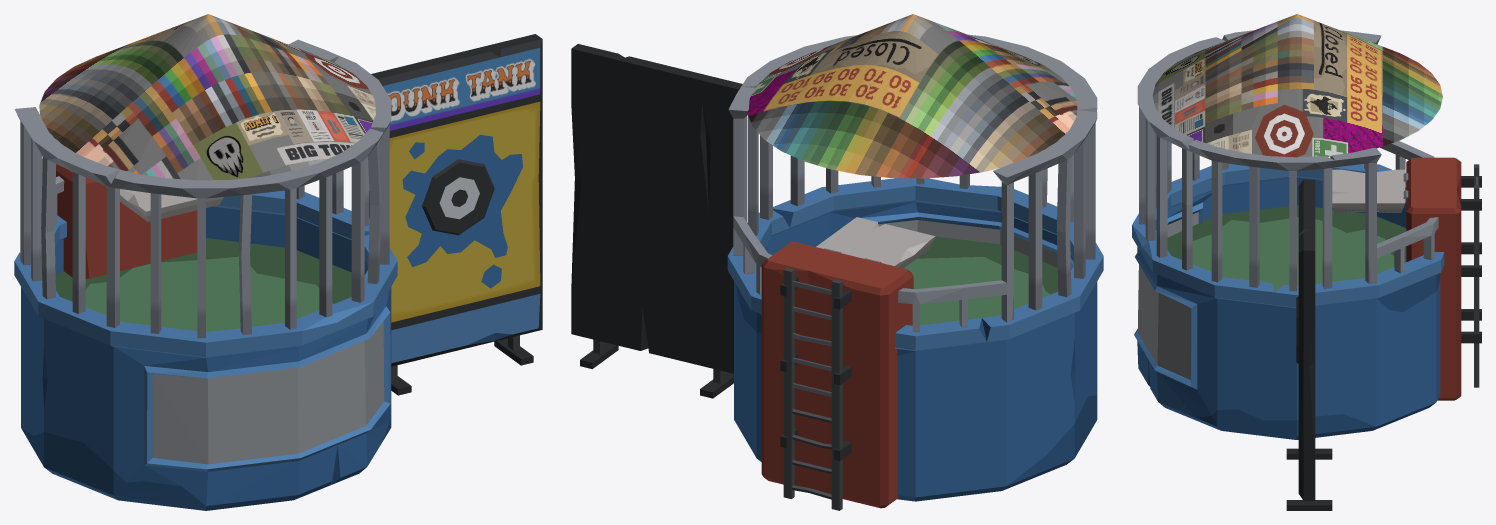
The model's file is DunkTank.glb.
The picture shows the model from 3 angles, left to right: view 1: azimuth 30°, elevation 25°; view 2: azimuth 150°, elevation 25°; view 3: azimuth 270°, elevation 25°; orthographic projection. The views are drawn at different scales.
Parts seen in each view (by area): view 1: DunkTankBody, Cone, Target, SeatBoard; view 2: DunkTankBody, Cone, SeatBoard; view 3: DunkTankBody, Cone, SeatBoard.
Boxes of the visible parts, x1,y1,x2,y2 form: DunkTankBody: [14, 34, 542, 510]; Cone: [39, 14, 375, 180]; Target: [422, 159, 494, 235]; SeatBoard: [106, 186, 223, 222]; DunkTankBody: [571, 34, 1103, 510]; Cone: [747, 14, 1077, 178]; SeatBoard: [816, 217, 935, 268]; DunkTankBody: [1132, 30, 1481, 510]; Cone: [1152, 14, 1442, 157]; SeatBoard: [1332, 169, 1405, 212].
Size of the model in its own units: 1.84 by 1.46 by 1.27.
Materials: 1 (1 with a texture image).
